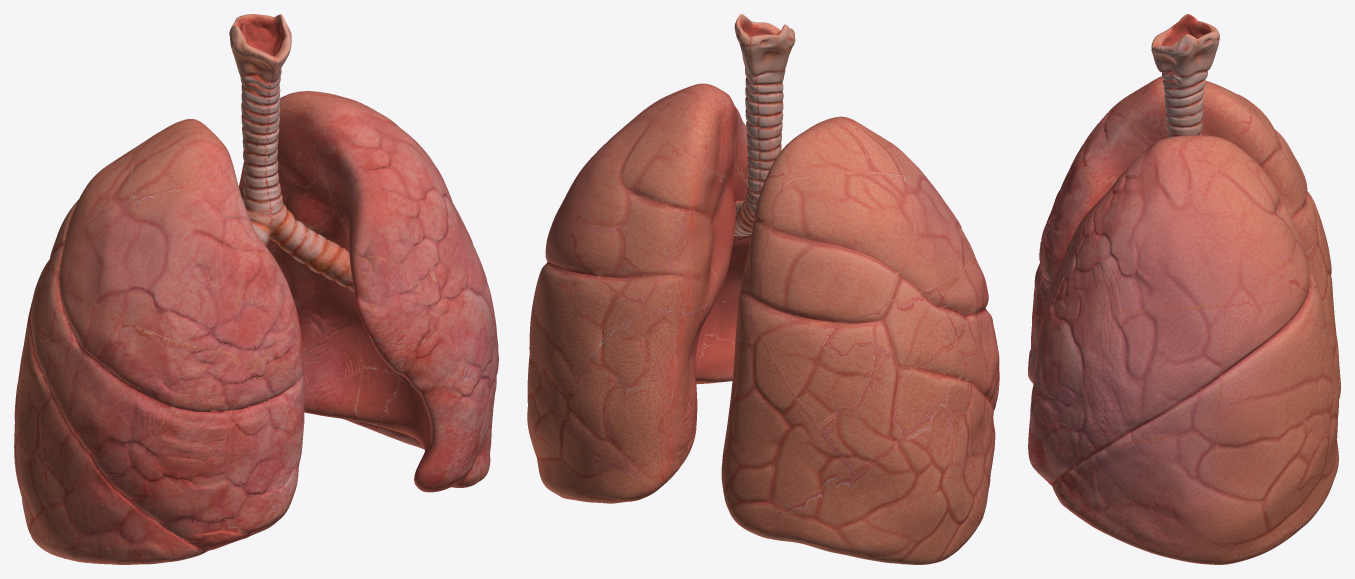
The model's file is organ-lungs-interactive-lod.glb.
3 views of the same model, side by side, from view 1: azimuth 30°, elevation 25°; view 2: azimuth 150°, elevation 25°; view 3: azimuth 270°, elevation 25° (orthographic). The views are drawn at different scales.
Parts seen in each view (by area): view 1: rightLung, leftLung, trachea; view 2: rightLung, leftLung, trachea; view 3: leftLung, rightLung, trachea.
Part boxes in pixels (x1=…): rightLung: x1=14, y1=111, x2=304, y2=564; leftLung: x1=238, y1=91, x2=498, y2=492; trachea: x1=229, y1=14, x2=291, y2=118; rightLung: x1=721, y1=107, x2=999, y2=564; leftLung: x1=527, y1=83, x2=754, y2=503; trachea: x1=734, y1=14, x2=795, y2=113; leftLung: x1=1028, y1=108, x2=1338, y2=564; rightLung: x1=1028, y1=76, x2=1340, y2=399; trachea: x1=1151, y1=14, x2=1219, y2=113.
Size of the model in its own units: 0.9026 by 0.9793 by 0.6131.
1 material, 1 textured.
